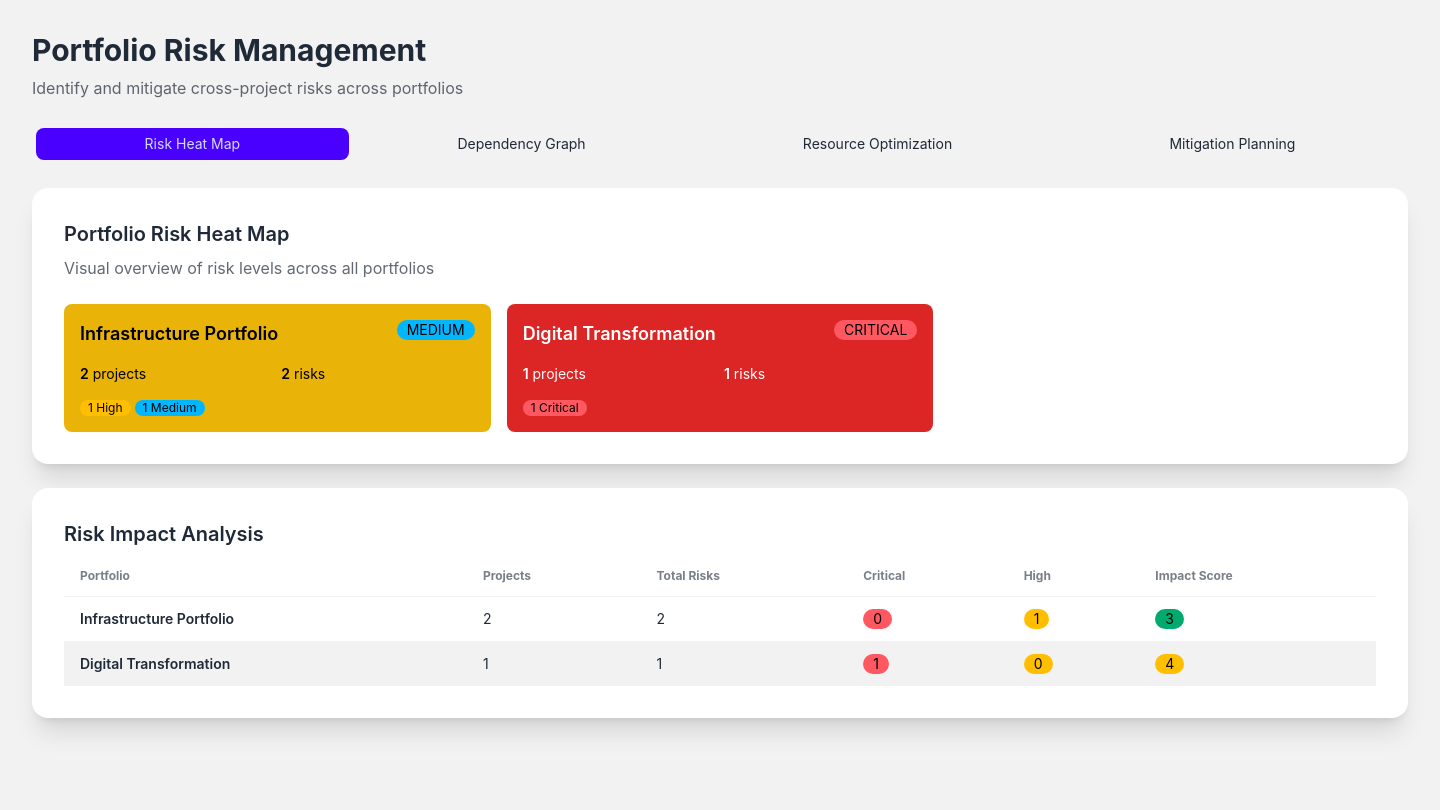
PortfolioRiskManagement › switches to dependency graph tab
Click the button "Dependency Graph". click: (522, 144)
box: [349, 128, 694, 160]
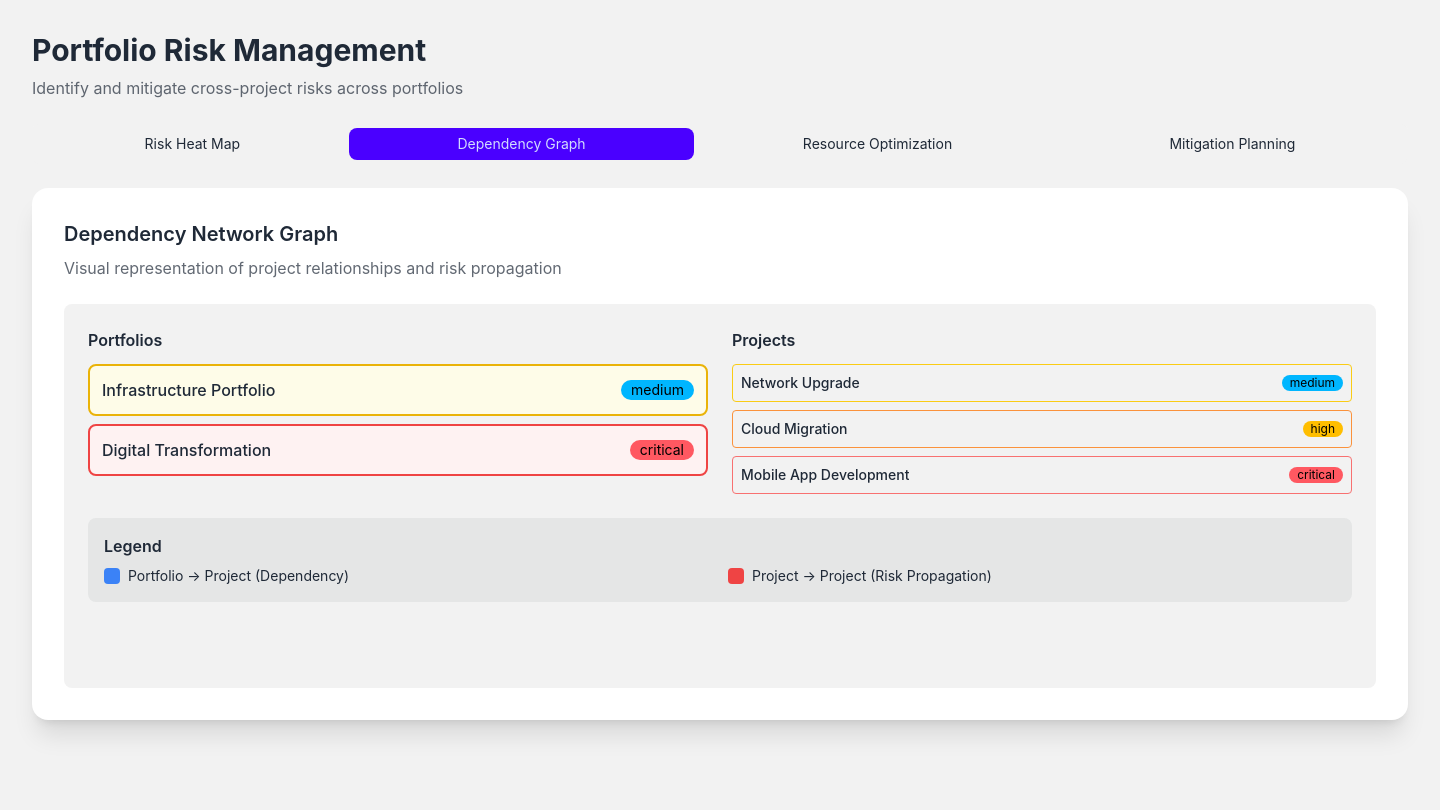
Expected: the heading "Portfolios" is shown, [88, 330, 162, 350]
Expected: the heading "Dependency Network Graph" is shown, [64, 222, 338, 246]
Expected: the heading "Legend" is shown, [104, 536, 162, 556]
